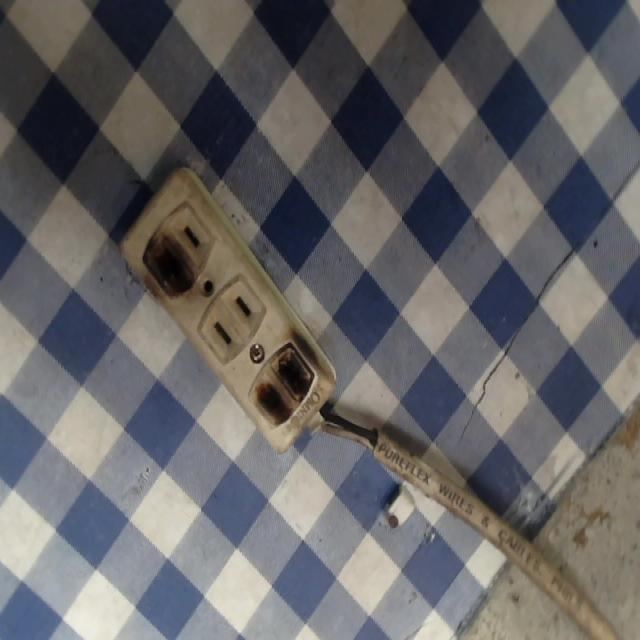-: (247, 329, 324, 431), (138, 227, 200, 301)
